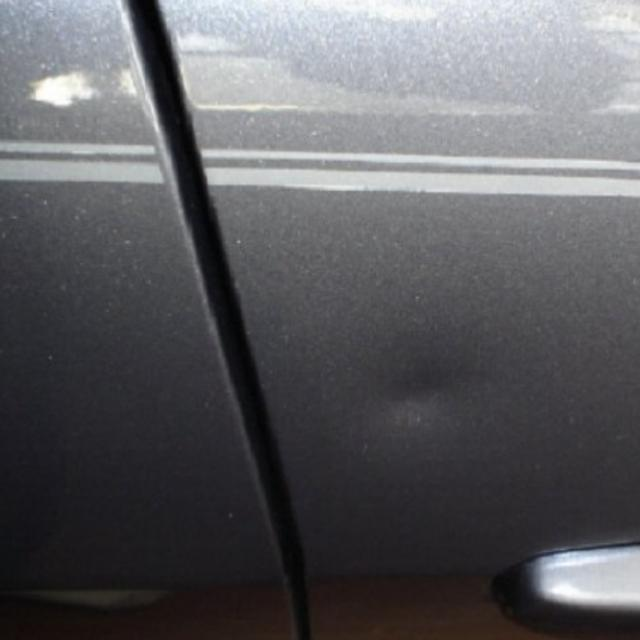dents: (355, 354, 509, 466)
